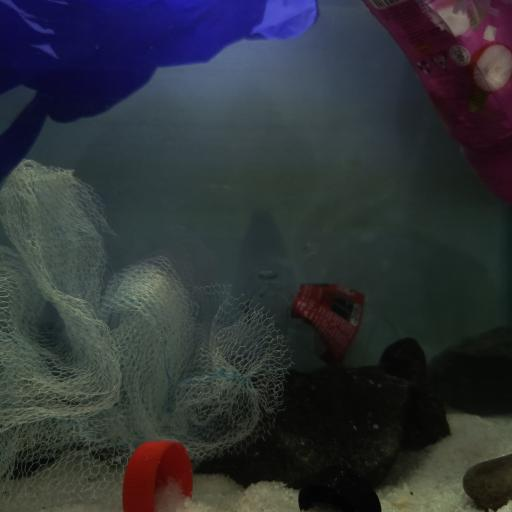bottle_cap: (124, 438, 193, 512), (298, 464, 382, 512)
glove: (0, 0, 319, 191)
net: (0, 159, 295, 500)
plastic_bottle: (363, 0, 512, 202), (243, 268, 407, 370)
